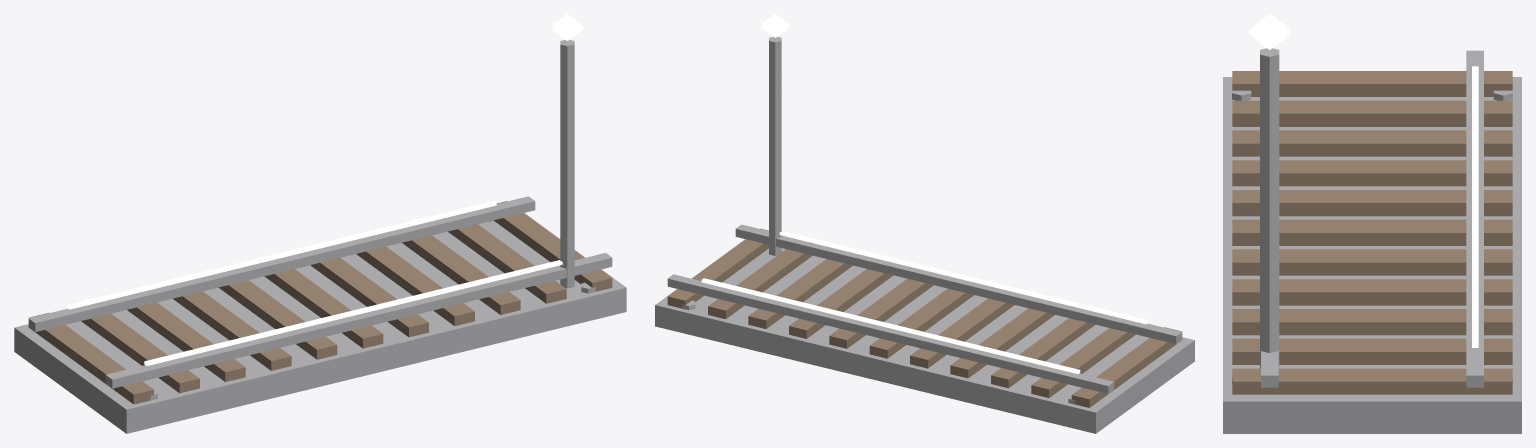
The model's file is rail_track_mythic.glb.
The picture shows the model from 3 angles, left to right: view 1: azimuth 30°, elevation 25°; view 2: azimuth 150°, elevation 25°; view 3: azimuth 270°, elevation 25°; orthographic projection. The views are drawn at different scales.
Parts seen in each view (by area): view 1: rail_track; view 2: rail_track; view 3: rail_track.
Part boxes in pixels (x1,y1,x2,y2): rail_track: (14, 14, 626, 433); rail_track: (655, 14, 1194, 433); rail_track: (1223, 14, 1521, 433).
Size of the model in its own units: 3.46 by 1.95 by 1.34.
